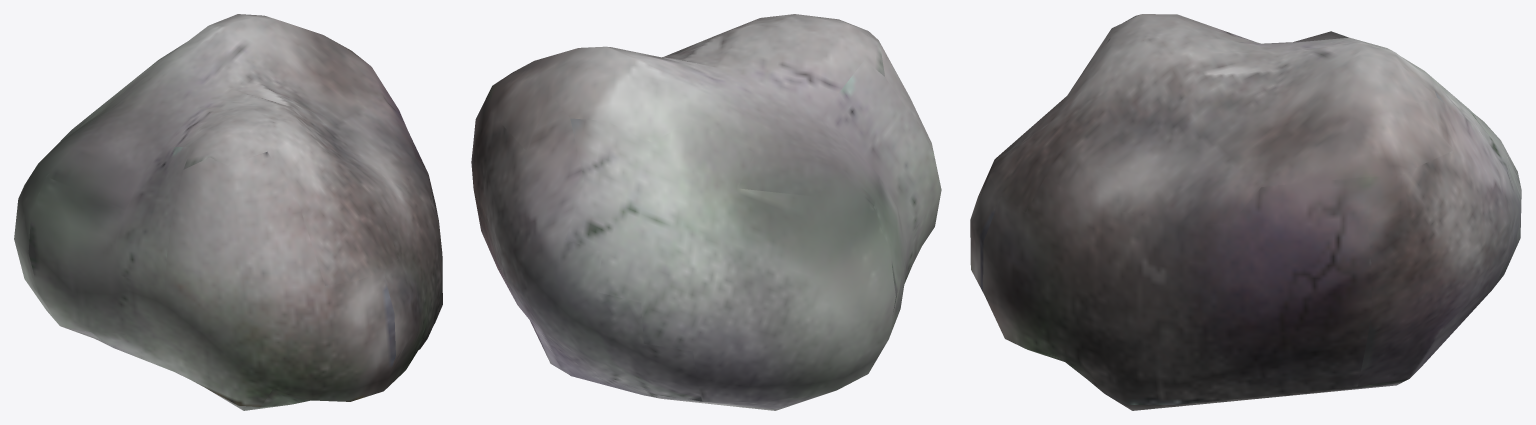
The model's file is Rocks 05.glb.
3 renders of one model, left to right at view 1: azimuth 30°, elevation 25°; view 2: azimuth 150°, elevation 25°; view 3: azimuth 270°, elevation 25°, orthographic. The views are drawn at different scales.
Parts seen in each view (by area): view 1: Rock 05; view 2: Rock 05; view 3: Rock 05.
Boxes of the visible parts, x1,y1,x2,y2 form: Rock 05: (14, 14, 442, 410); Rock 05: (471, 14, 941, 410); Rock 05: (970, 14, 1521, 410).
Size of what is drawn, in the model's own units: 2.29 by 1.71 by 2.65.
Materials: 1 (1 with a texture image).
